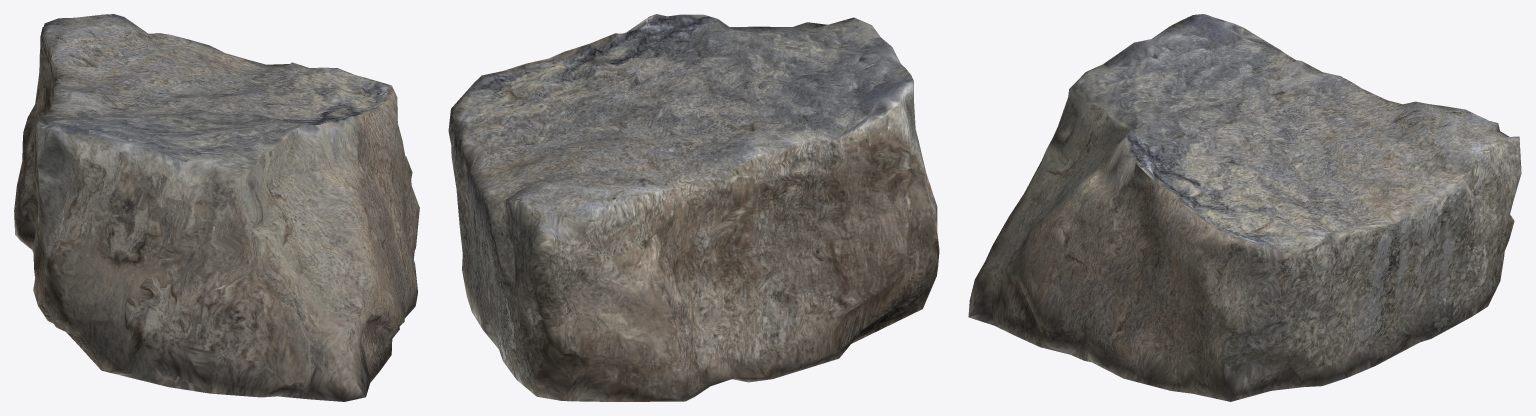
Rendered from boulder_b_lod1.glb.
The picture shows the model from 3 angles, left to right: view 1: azimuth 30°, elevation 25°; view 2: azimuth 150°, elevation 25°; view 3: azimuth 270°, elevation 25°; orthographic projection. The views are drawn at different scales.
Visible parts, largest first — view 1: boulder_b_lod1; view 2: boulder_b_lod1; view 3: boulder_b_lod1.
Boxes of the visible parts, x1,y1,x2,y2 form: boulder_b_lod1: [14, 14, 419, 401]; boulder_b_lod1: [448, 14, 939, 401]; boulder_b_lod1: [968, 14, 1521, 401].
Size of the model in its own units: 3.46 by 1.9 by 4.39.
1 material, 1 textured.
